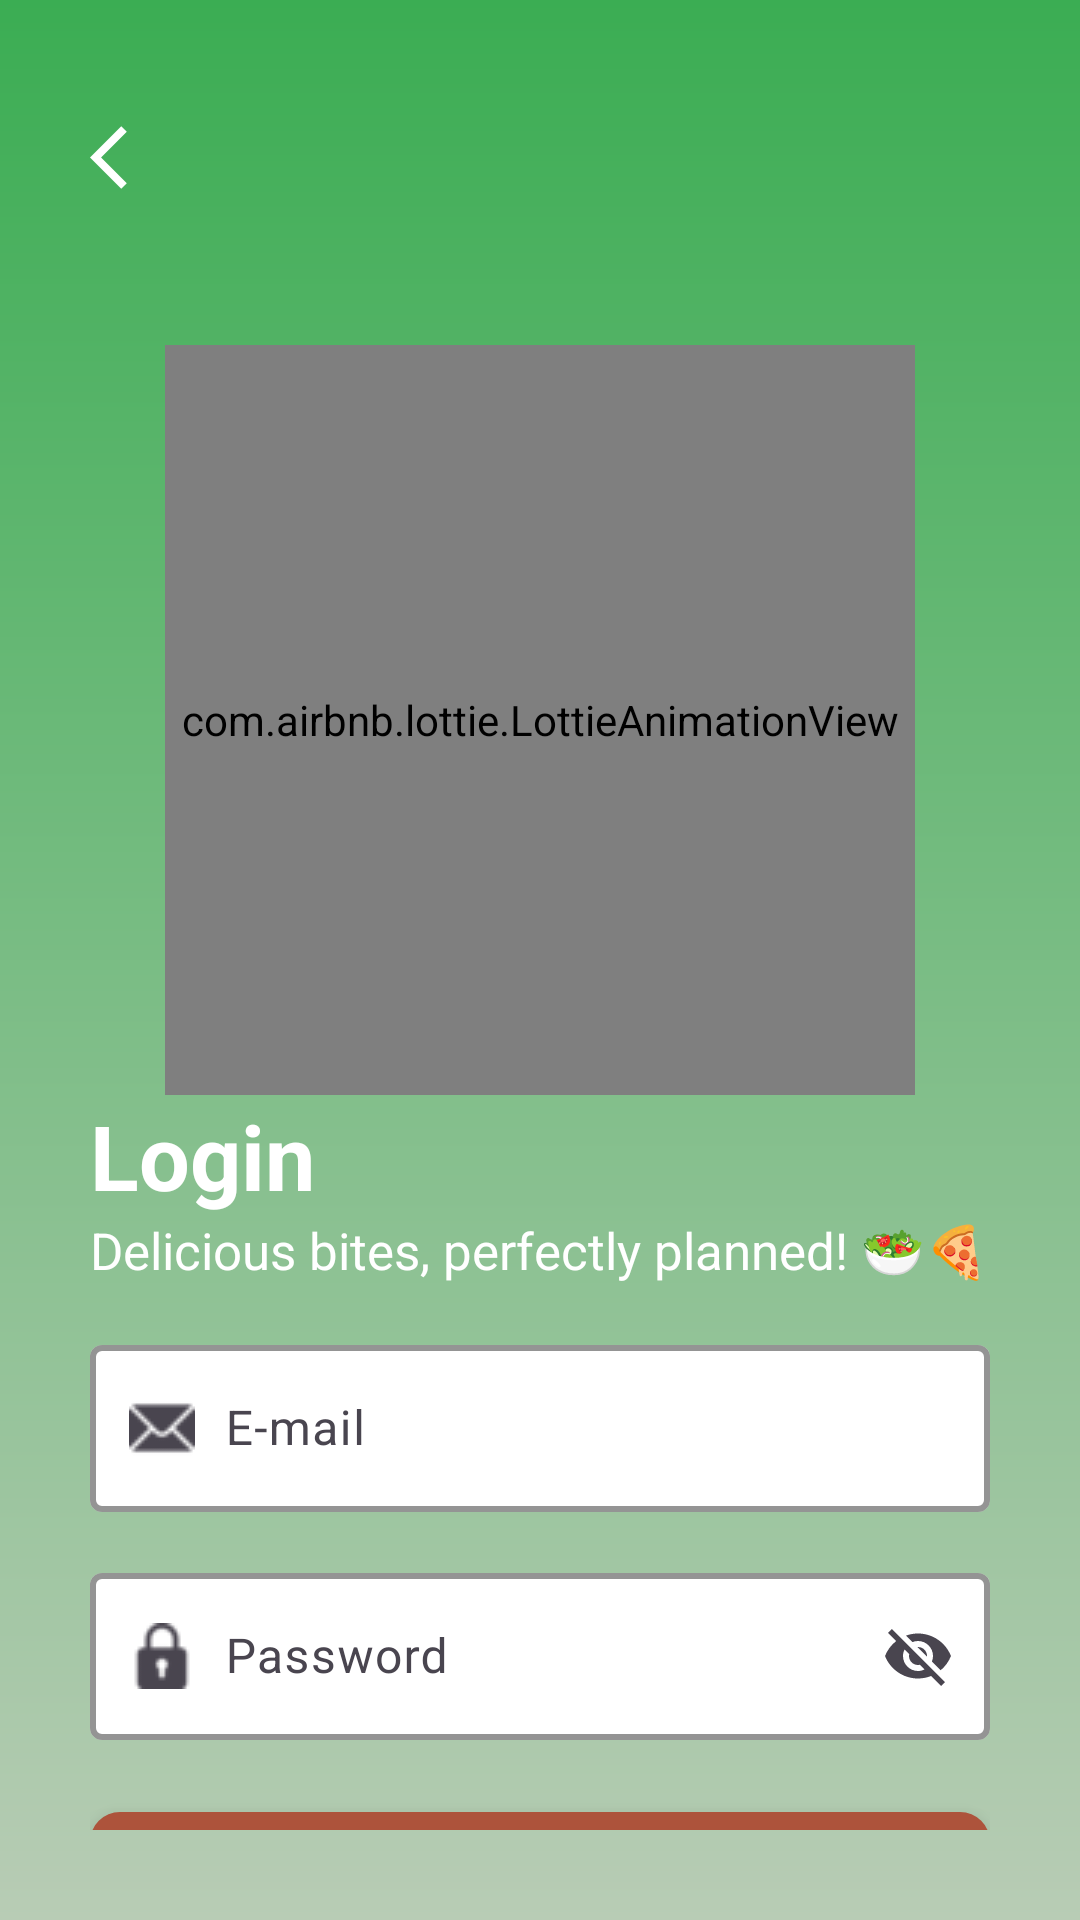

Where to tap for icons on this 1080×1920 app screen, as point (x, y):
arrow back: point (108, 157)
